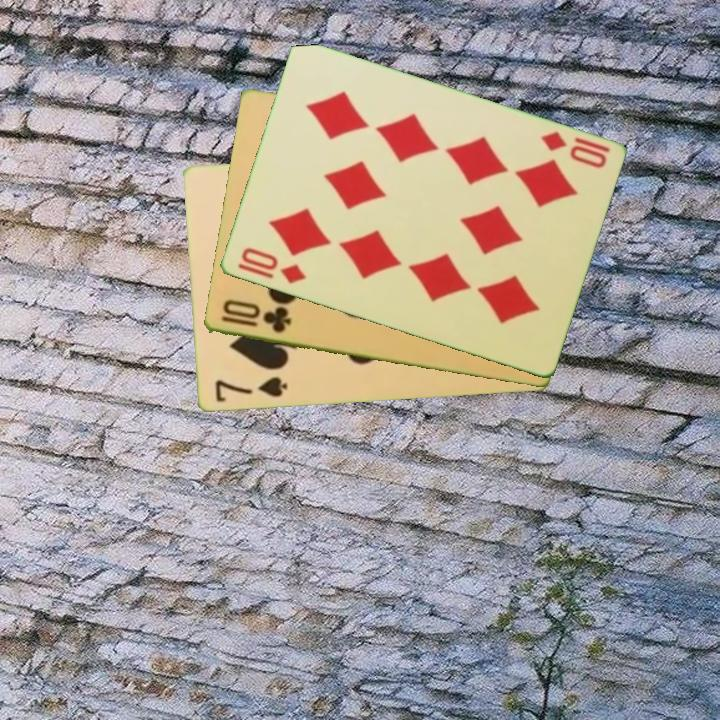10c: (217, 297, 294, 337)
10d: (536, 128, 609, 172), (237, 244, 309, 287)
7s: (211, 374, 290, 406)
